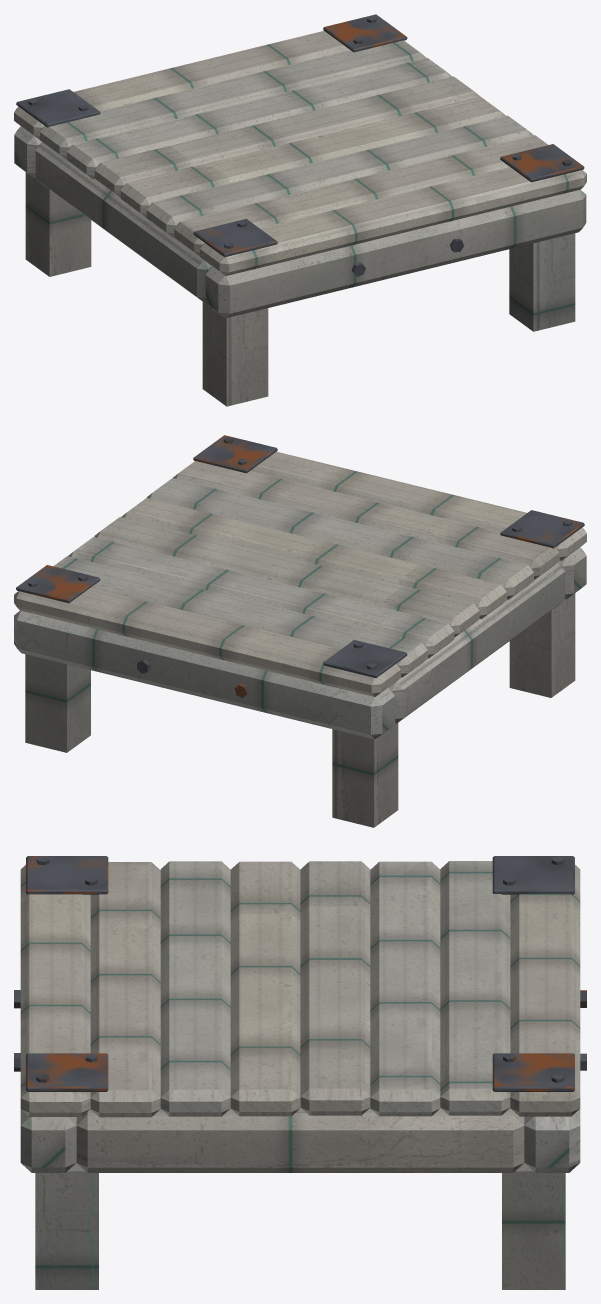
File: makine_platformu_kucuk.glb
3 views of the same model, one above another, from view 1: azimuth 30°, elevation 25°; view 2: azimuth 150°, elevation 25°; view 3: azimuth 270°, elevation 25° (orthographic). The views are drawn at different scales.
Visible parts, largest first — view 1: makine_platformu_kucuk; view 2: makine_platformu_kucuk; view 3: makine_platformu_kucuk.
Part boxes in pixels (x1,y1,x2,y2): makine_platformu_kucuk: [14, 14, 586, 406]; makine_platformu_kucuk: [14, 435, 586, 827]; makine_platformu_kucuk: [14, 856, 586, 1289].
Size of the model in its own units: 3 by 1.24 by 3.07.
1 material, 1 textured.
